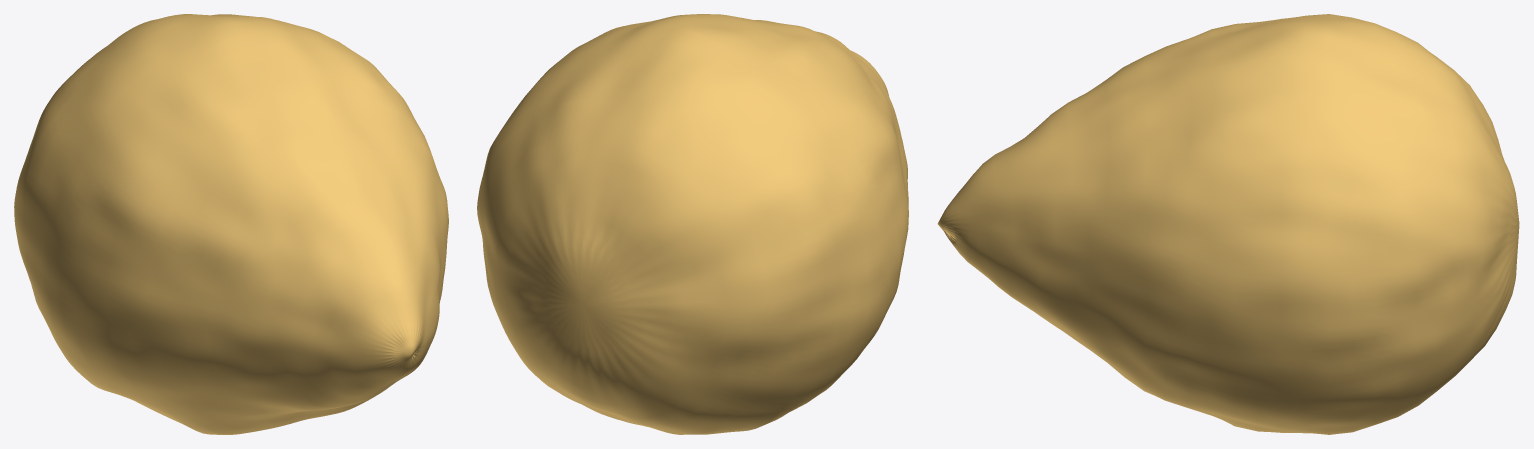
Rendered from coxinha.glb.
3 renders of one model, left to right at view 1: azimuth 30°, elevation 25°; view 2: azimuth 150°, elevation 25°; view 3: azimuth 270°, elevation 25°, orthographic.
Visible parts, largest first — view 1: lathe; view 2: lathe; view 3: lathe.
Boxes of the visible parts, x1,y1,x2,y2 form: lathe: (14,14,448,434); lathe: (477,14,908,434); lathe: (937,14,1519,434).
Size of the model in its own units: 0.0896 by 0.0913 by 0.1241.
